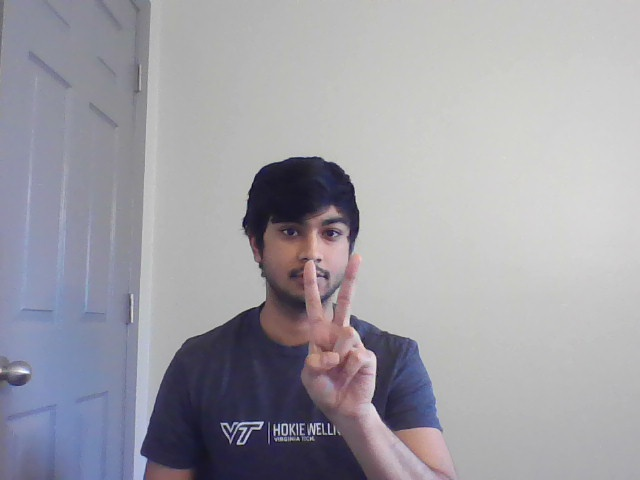two: (295, 253, 386, 409)
